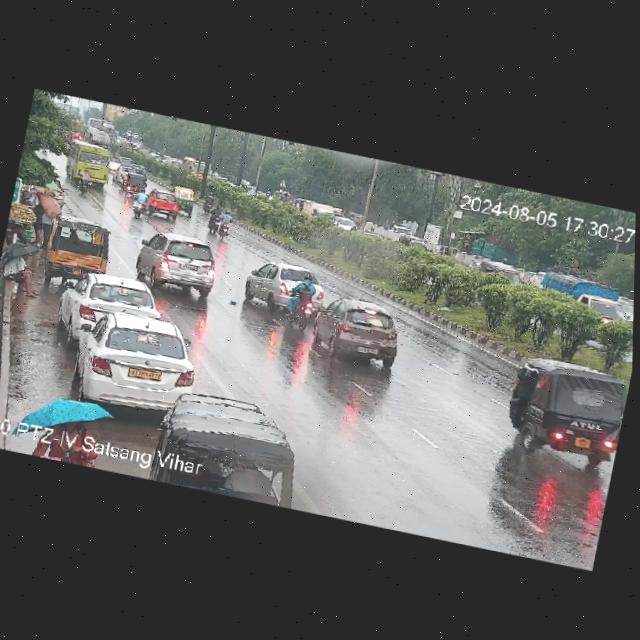bus: (61, 139, 118, 187)
car: (65, 295, 206, 428), (505, 351, 626, 461), (53, 263, 164, 356), (312, 296, 404, 375), (131, 227, 222, 296), (43, 214, 115, 281), (241, 255, 298, 306), (145, 189, 181, 217), (170, 183, 198, 214), (124, 172, 147, 197)
motorcycle: (285, 272, 321, 331), (130, 187, 148, 219), (215, 206, 233, 237), (206, 203, 222, 231), (76, 167, 92, 193)
person: (0, 242, 44, 297), (34, 193, 61, 248), (25, 187, 44, 212)
truck: (541, 268, 634, 324), (296, 198, 336, 224)
